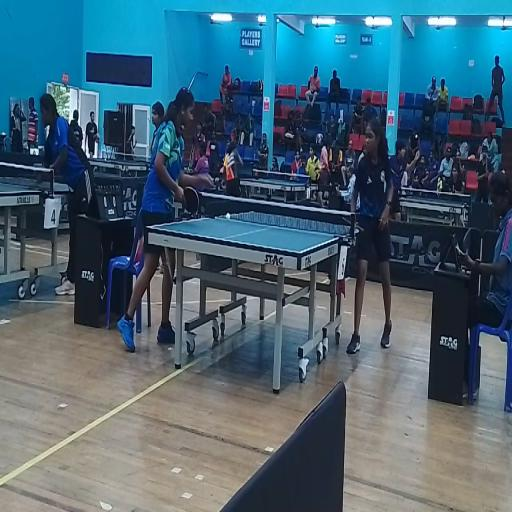ball: (226, 213, 230, 221)
